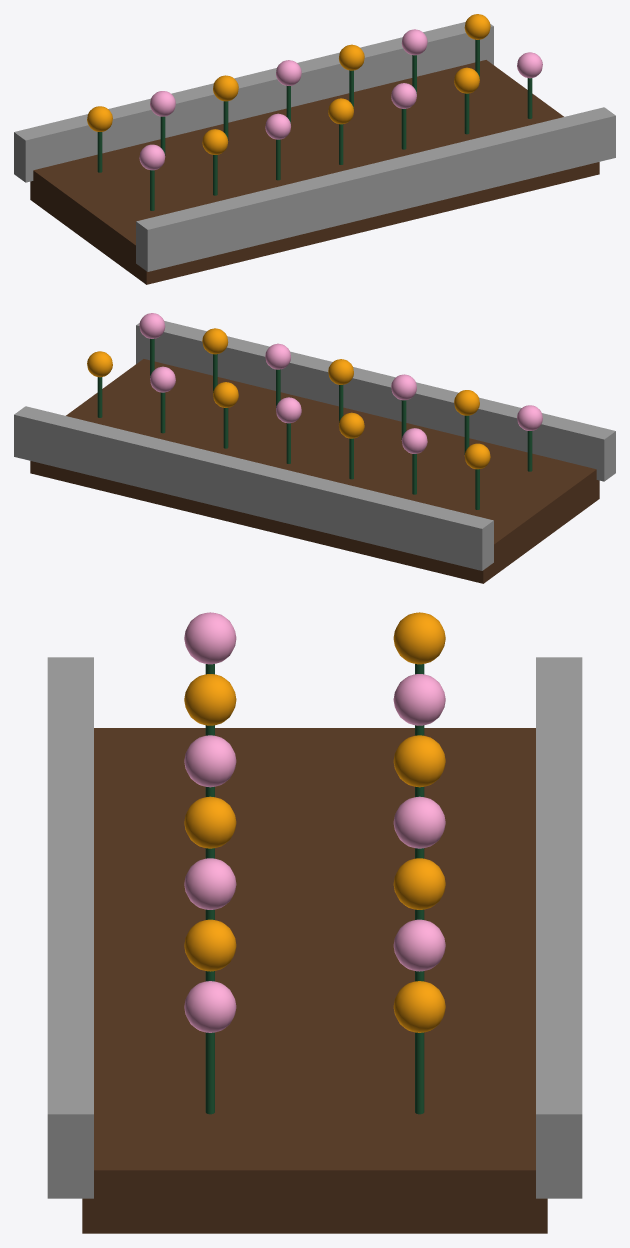
The picture shows the model from 3 angles, top to bottom: view 1: azimuth 30°, elevation 25°; view 2: azimuth 150°, elevation 25°; view 3: azimuth 270°, elevation 25°; orthographic projection. The views are drawn at different scales.
Visible parts, largest first — view 1: rectangular-flower-bed; view 2: rectangular-flower-bed; view 3: rectangular-flower-bed.
Boxes of the visible parts, x1,y1,x2,y2 form: rectangular-flower-bed: (14, 14, 615, 284); rectangular-flower-bed: (14, 313, 615, 583); rectangular-flower-bed: (47, 612, 582, 1233).
Bounding box in the file's own units: 1.86 × 0.405 × 0.92.
